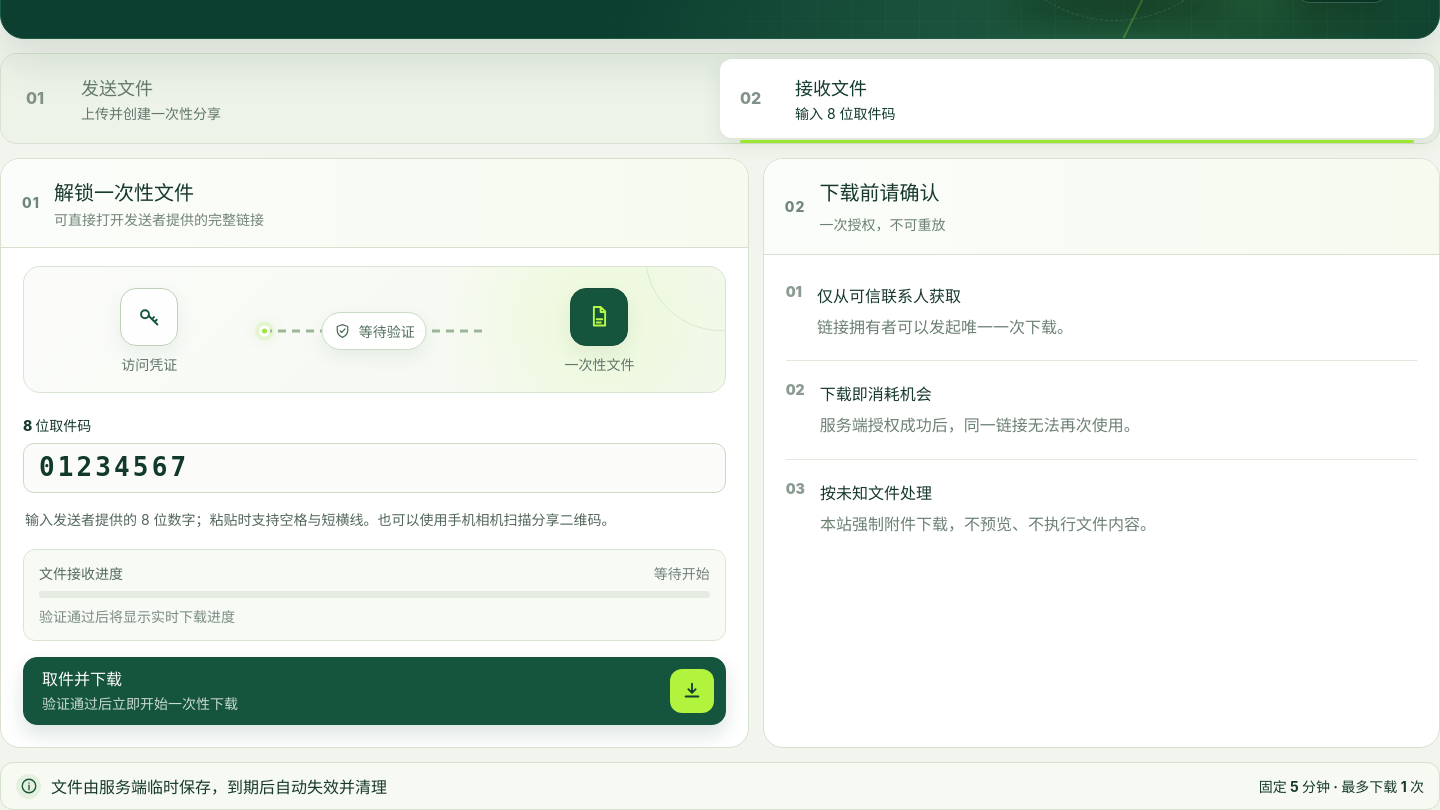
Test: TemporaryFileShareTool › shows determinate progress while receiving a file
The image size is (1440, 810).
(page scrolled)
Click the button "取件并下载 验证通过后立即开始一次性下载": x=82, y=679 [23,657,726,725]
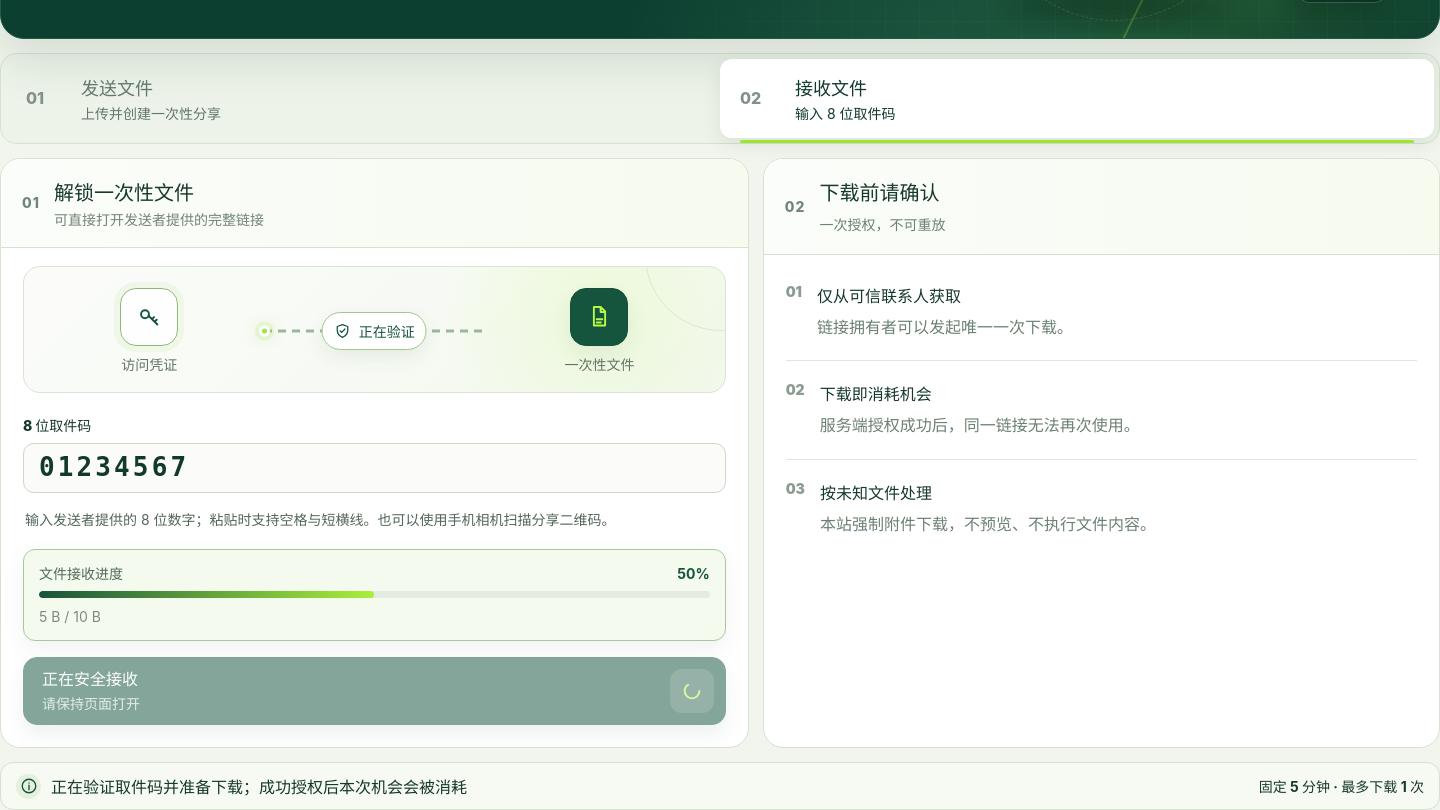
Expected: the text "50%" is shown, [677,565,710,582]
Expected: the text "5 B / 10 B" is shown, [39,608,101,625]
Expected: the picture named "访问凭证到一次性文件：正在验证" is shown, [23,266,726,393]
